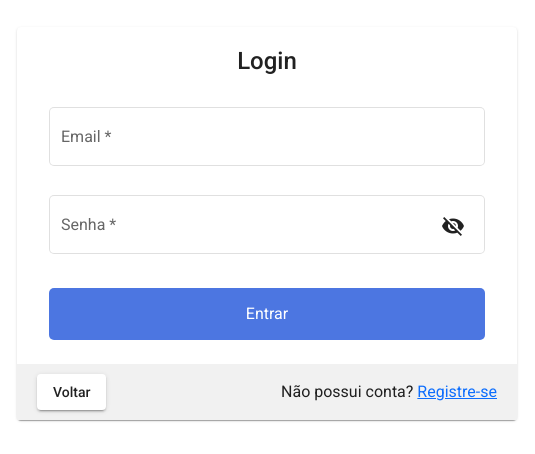
Test: Teste de GUI do componente de login › Email não registrado
Step 1. Type "hahaha@gmail.com" into the field labelled "Email *" → (267, 141), box [61, 132, 473, 150]
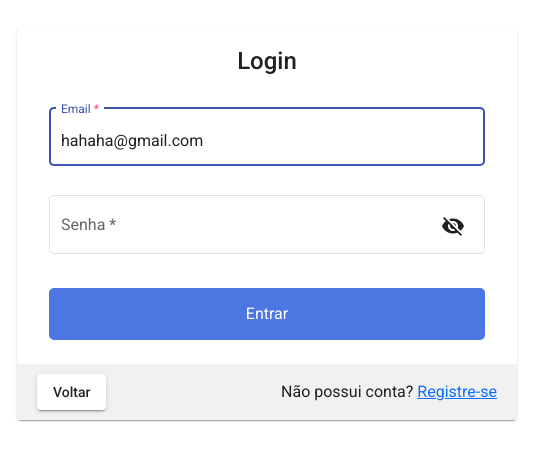
Step 2. Type "123" into the password field labelled "Senha *" → (247, 229), box [61, 220, 433, 238]
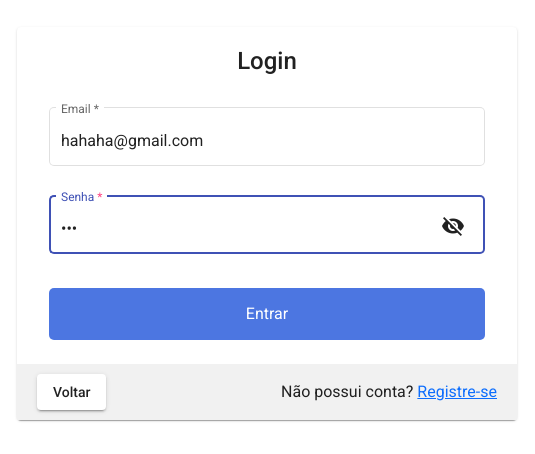
Step 3. Click the button "Entrar" → (267, 314), box [49, 288, 485, 340]
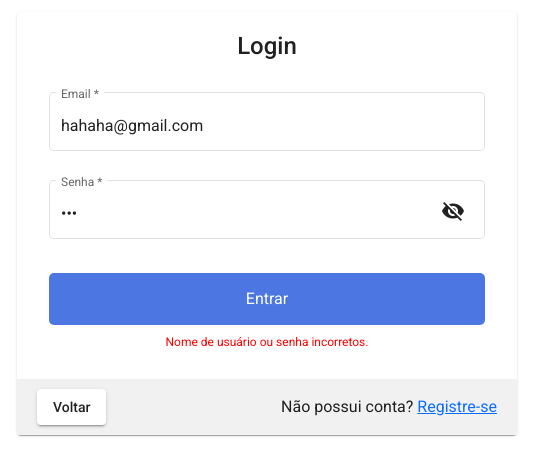
Check: the text "Nome de usuário ou senha incorretos." is shown, box [166, 334, 368, 348]
